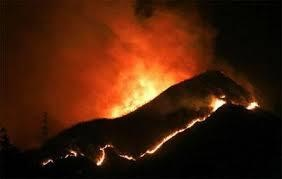fire: (93, 141, 112, 165), (209, 93, 228, 112), (245, 98, 258, 110)
